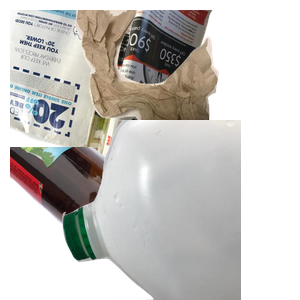glass: (10, 147, 207, 300)
paper: (10, 10, 215, 186)
plastic: (60, 120, 300, 300)
trash: (73, 10, 300, 163)
